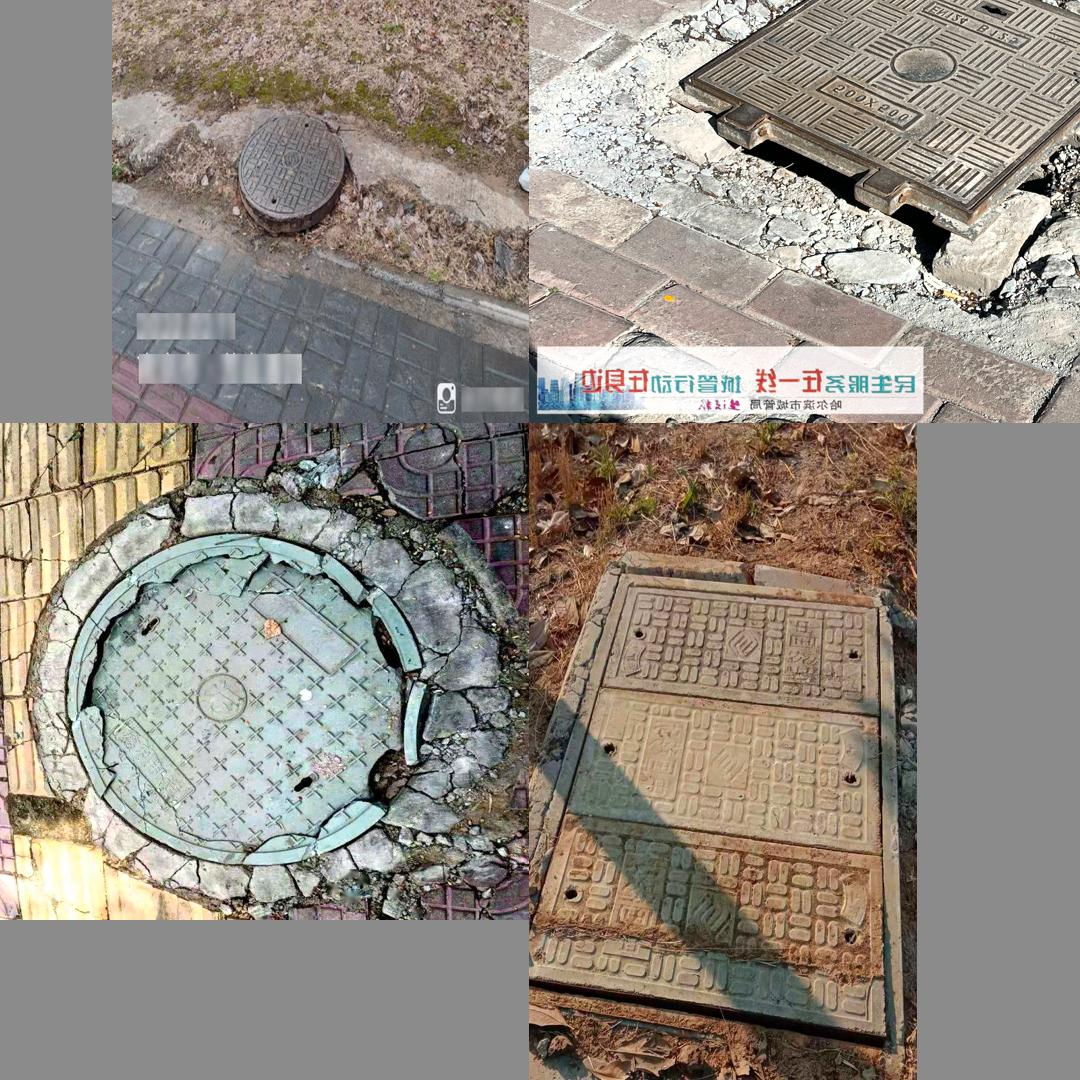circle: (15, 480, 499, 897), (529, 553, 911, 1066), (574, 0, 1080, 315), (235, 108, 350, 232)
